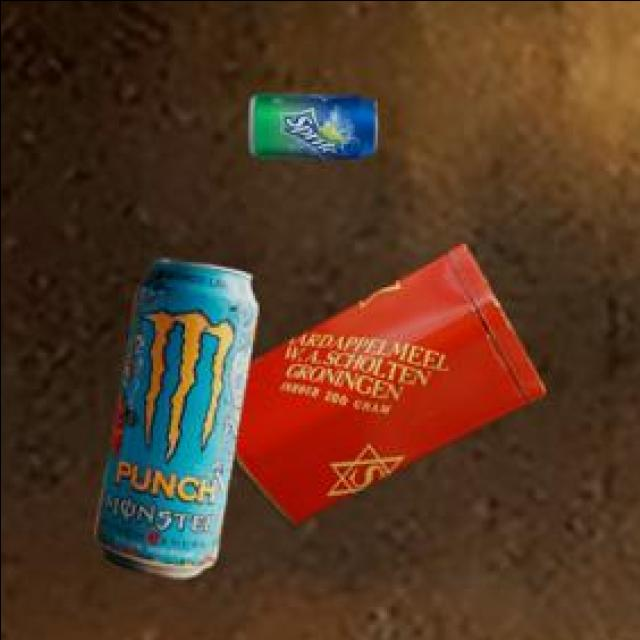logam: (228, 239, 541, 523), (92, 255, 253, 573), (244, 90, 371, 155)
